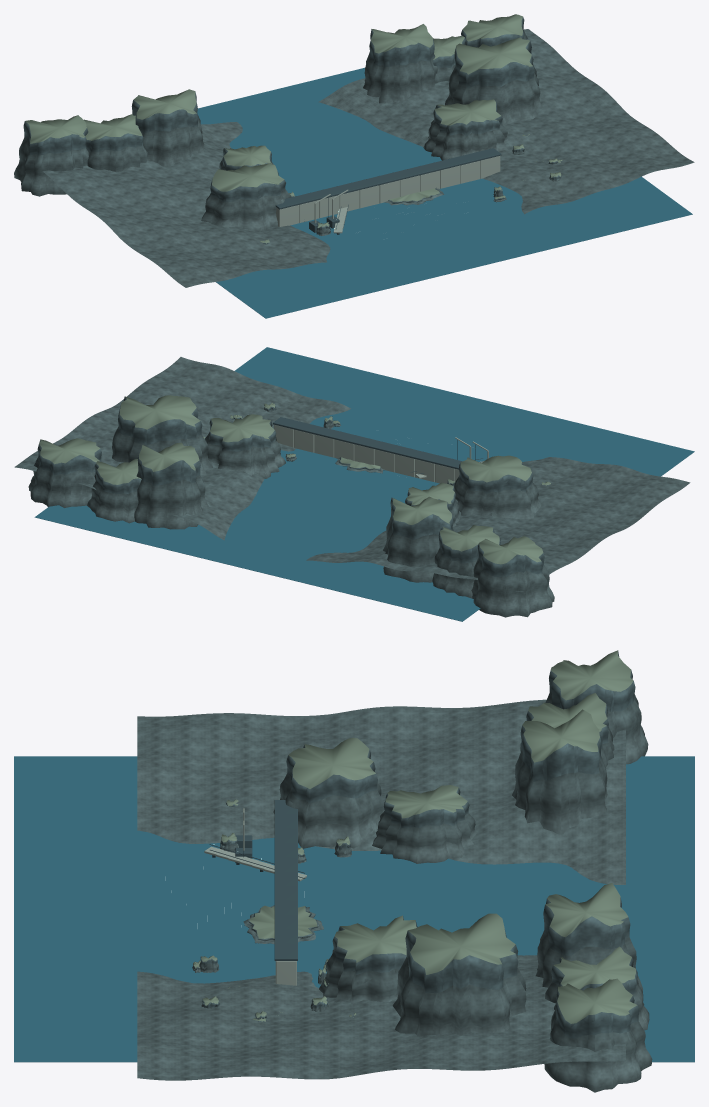
File: shore-02-v1.glb
3 renders of one model, top to bottom at view 1: azimuth 30°, elevation 25°; view 2: azimuth 150°, elevation 25°; view 3: azimuth 270°, elevation 25°, orthographic. The views are drawn at different scales.
Parts seen in each view (by area): view 1: coast strata 1, Tidal water, Surface mantle, coast strata 2, coast strata 0, Concrete and brushed alloy, Oxidised armour; view 2: Tidal water, coast strata 1, Surface mantle, coast strata 2, coast strata 0, Concrete and brushed alloy, Oxidised armour; view 3: coast strata 1, Tidal water, Surface mantle, coast strata 2, coast strata 0, Oxidised armour, Concrete and brushed alloy.
Boxes of the visible parts, x1,y1,x2,y2 form: coast strata 1: [19, 29, 694, 287]; Tidal water: [197, 67, 692, 318]; Surface mantle: [25, 14, 562, 243]; coast strata 2: [23, 17, 561, 244]; coast strata 0: [14, 79, 541, 235]; Concrete and brushed alloy: [276, 156, 500, 233]; Oxidised armour: [275, 148, 501, 232]; Tidal water: [34, 347, 694, 621]; coast strata 1: [14, 357, 690, 596]; Surface mantle: [39, 395, 550, 564]; coast strata 2: [37, 396, 551, 576]; coast strata 0: [28, 426, 554, 617]; Concrete and brushed alloy: [274, 424, 488, 483]; Oxidised armour: [273, 417, 483, 474]; coast strata 1: [137, 693, 645, 1080]; Tidal water: [14, 756, 694, 1062]; Surface mantle: [193, 650, 637, 1023]; coast strata 2: [193, 650, 639, 1038]; coast strata 0: [200, 725, 652, 1092]; Oxidised armour: [209, 800, 305, 960]; Concrete and brushed alloy: [204, 808, 306, 985].
Bounding box in the file's own units: 208 × 31.63 × 160.
Materials: 10 (3 with a texture image).
